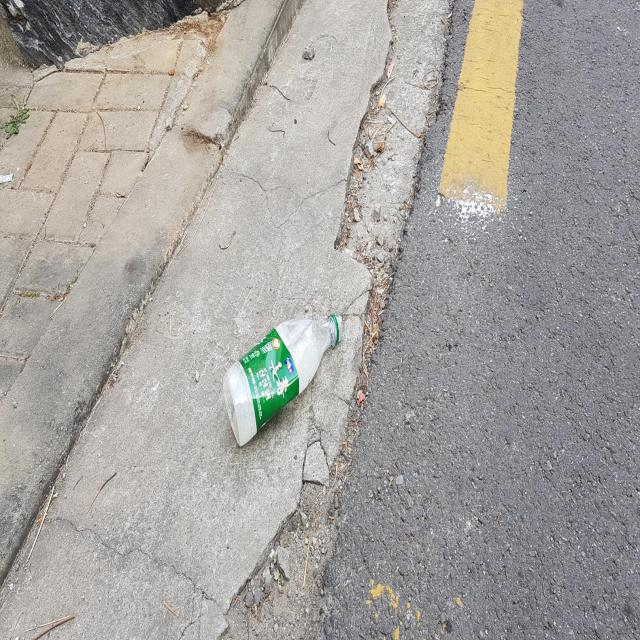plastic: (223, 313, 343, 445)
